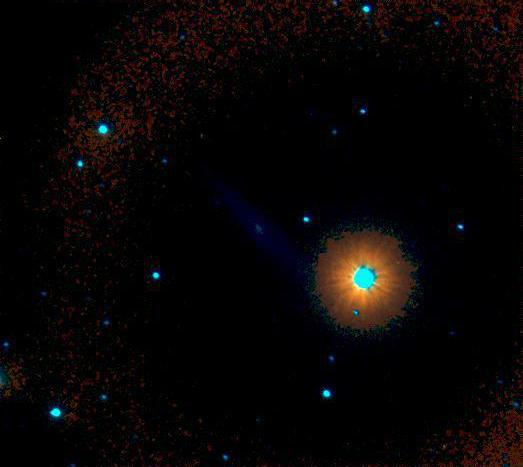star: (384, 247, 414, 277)
